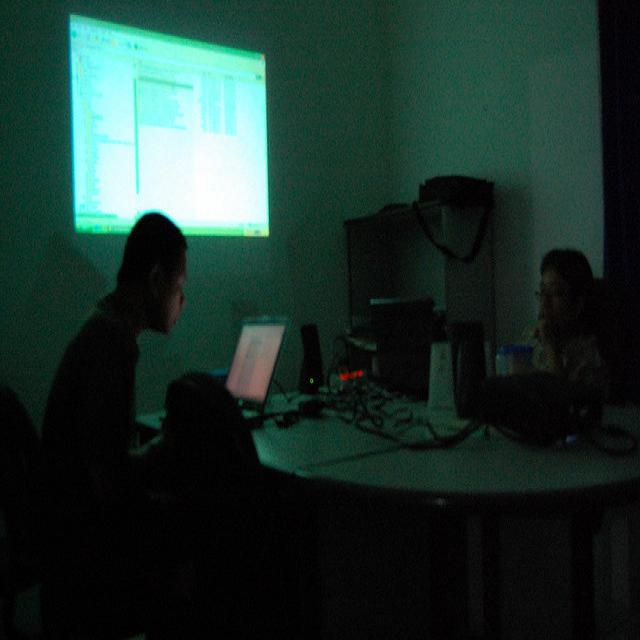People: (0, 205, 217, 502), (521, 228, 624, 422)
Table: (206, 366, 639, 626), (343, 156, 517, 359)
chair: (137, 358, 271, 610)
